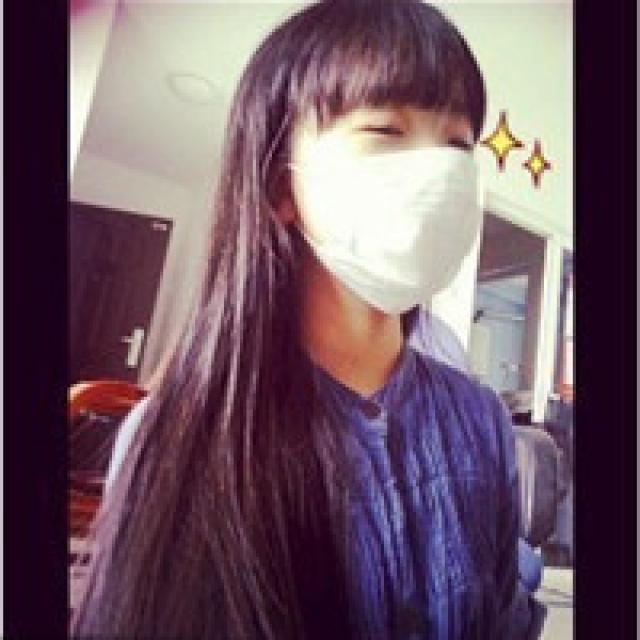mask: (296, 66, 478, 286)
